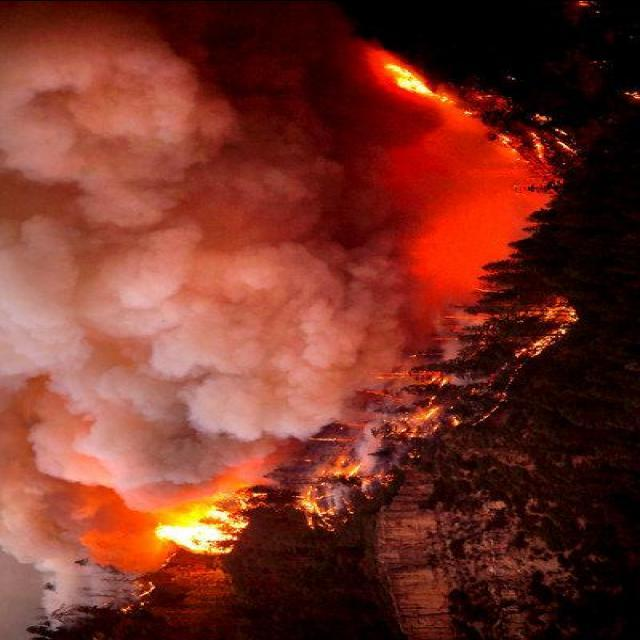Fire: (119, 438, 388, 570), (358, 56, 568, 162)
